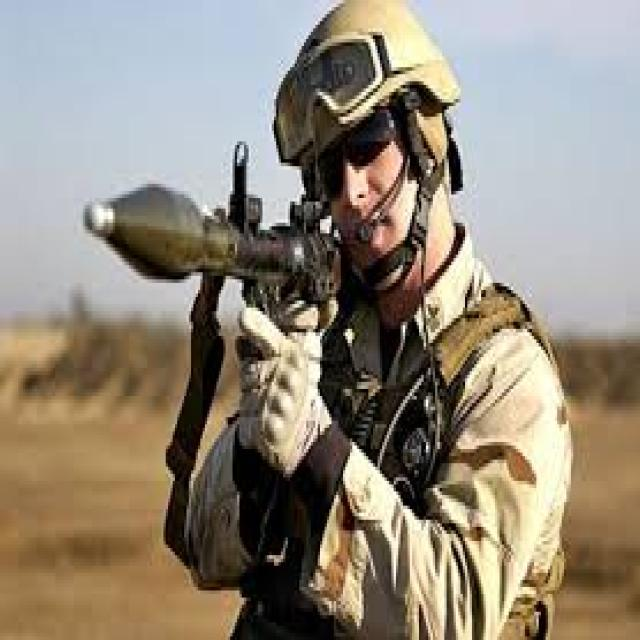bazooka: (63, 99, 375, 363)
